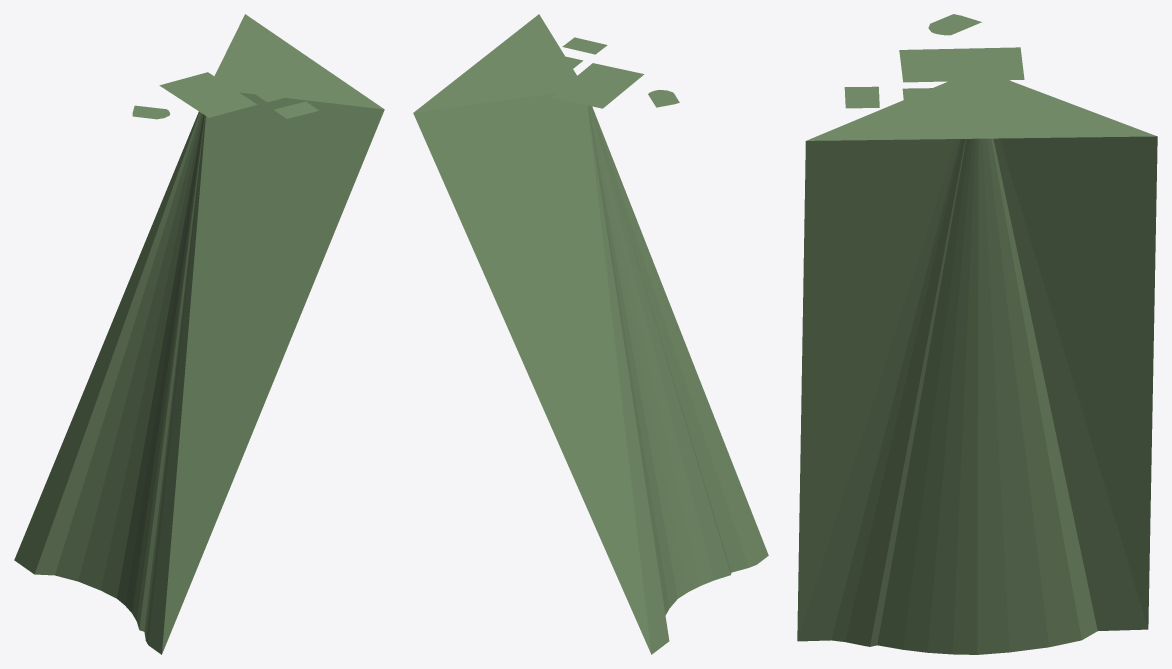
File: c_1638_17830_parks.glb
3 renders of one model, left to right at view 1: azimuth 30°, elevation 25°; view 2: azimuth 150°, elevation 25°; view 3: azimuth 270°, elevation 25°, orthographic. The views are drawn at different scales.
Parts seen in each view (by area): view 1: geometry_0; view 2: geometry_0; view 3: geometry_0.
Boxes of the visible parts, left/top/right/bottom form: geometry_0: left=14, top=14, right=384, bottom=654; geometry_0: left=413, top=14, right=768, bottom=654; geometry_0: left=797, top=14, right=1157, bottom=654.
Size of the model in its own units: 226 by 436 by 220.
